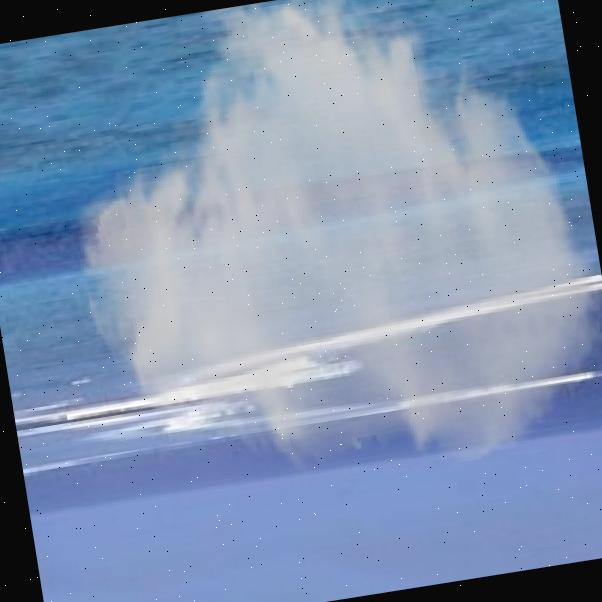smoke: (39, 0, 602, 523)
